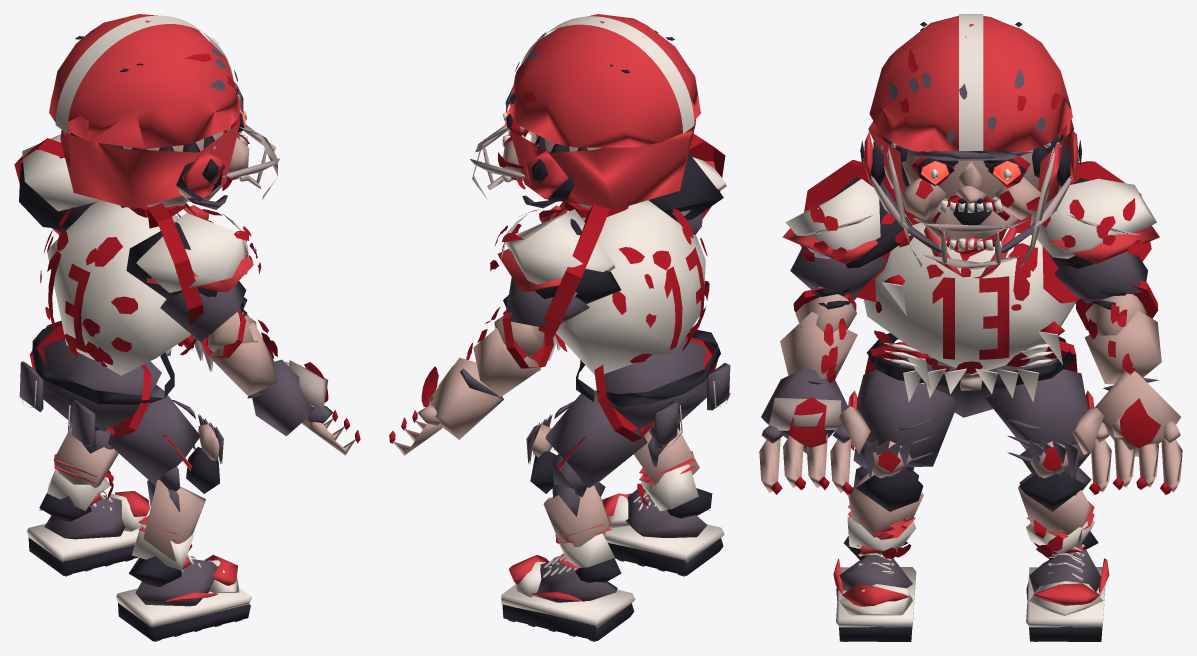
The model's file is inf.armored-football.lod1.glb.
3 views of the same model, side by side, from view 1: azimuth 30°, elevation 25°; view 2: azimuth 150°, elevation 25°; view 3: azimuth 270°, elevation 25° (orthographic). The views are drawn at different scales.
Visible parts, largest first — view 1: head, torso, armR, footR, hip, footL, shinR, legR, handR, armL, shinL, foreArmR (+4 smaller); view 2: head, torso, armL, footL, hip, footR, legL, shinL, handL, foreArmL, shinR, armR (+5 smaller); view 3: head, torso, armL, armR, handR, handL, legR, footL, legL, footR, shinR, shinL (+6 smaller).
Part boxes in pixels (left/top/right/bottom): head: left=49, top=14, right=280, bottom=209; torso: left=40, top=200, right=212, bottom=375; armR: left=126, top=209, right=261, bottom=341; footR: left=116, top=554, right=251, bottom=641; hip: left=19, top=324, right=174, bottom=450; footL: left=26, top=491, right=149, bottom=576; shinR: left=132, top=447, right=219, bottom=570; legR: left=108, top=384, right=223, bottom=485; handR: left=252, top=359, right=360, bottom=455; armL: left=19, top=134, right=101, bottom=232; shinL: left=47, top=421, right=118, bottom=510; foreArmR: left=207, top=312, right=283, bottom=398; head: left=470, top=14, right=700, bottom=209; torso: left=538, top=200, right=709, bottom=374; armL: left=490, top=209, right=621, bottom=327; footL: left=501, top=553, right=635, bottom=641; hip: left=576, top=330, right=730, bottom=448; footR: left=602, top=488, right=724, bottom=576; legL: left=526, top=391, right=647, bottom=487; shinL: left=530, top=450, right=614, bottom=567; handL: left=389, top=357, right=503, bottom=455; foreArmL: left=460, top=306, right=544, bottom=398; shinR: left=633, top=422, right=699, bottom=510; armR: left=648, top=153, right=726, bottom=234; head: left=860, top=14, right=1081, bottom=269; torso: left=863, top=223, right=1075, bottom=401; armL: left=1030, top=178, right=1159, bottom=309; armR: left=782, top=177, right=913, bottom=309; handR: left=759, top=368, right=870, bottom=495; handL: left=1072, top=371, right=1182, bottom=494; legR: left=848, top=369, right=956, bottom=479; footL: left=1026, top=531, right=1109, bottom=641; legL: left=985, top=369, right=1094, bottom=479; footR: left=833, top=536, right=916, bottom=641; shinR: left=847, top=443, right=923, bottom=558; shinL: left=1018, top=443, right=1094, bottom=557.
Bounding box in the file's own units: 0.752 × 1.8 × 1.15.
